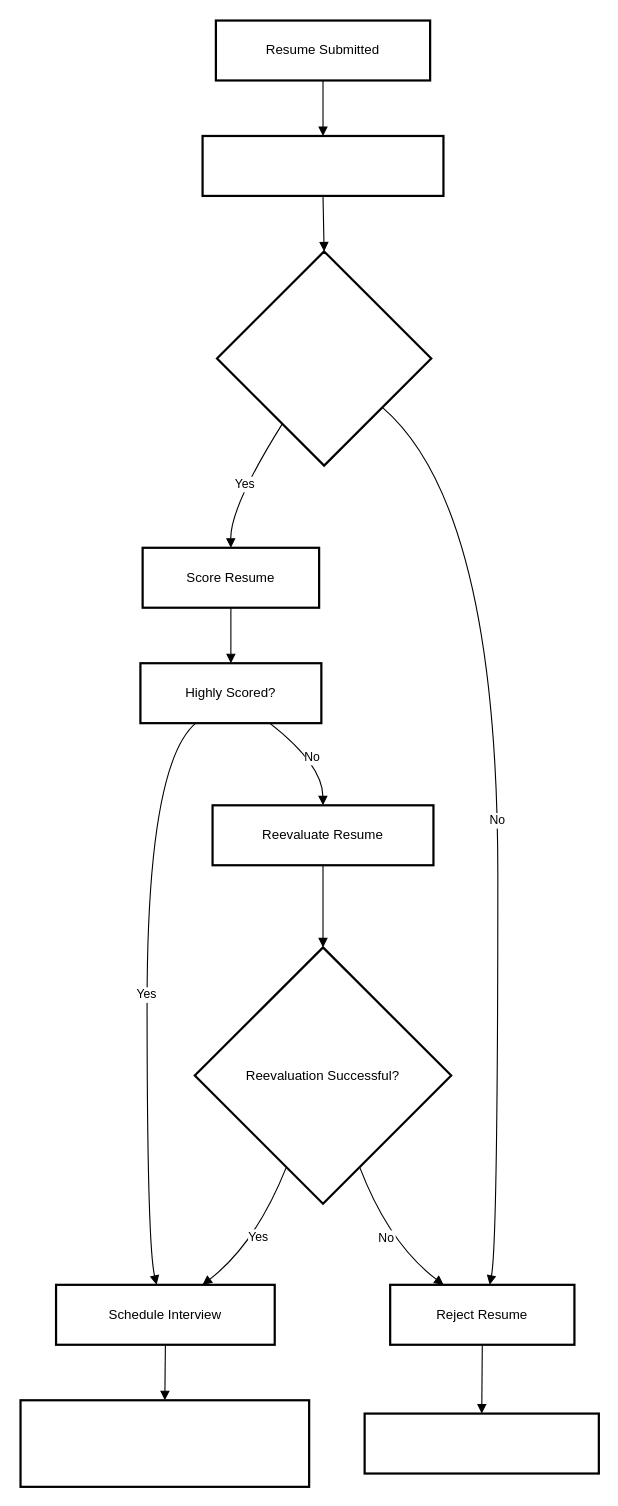
The diagram is 618 pixels wide and 1506 high, and some of its shapes have lost their labels. Here are the shapes that lost their labels. From the top down, the centre of each, then its label:
At (x=322, y=165): "Resume Preprocessing".
At (x=323, y=358): "Keywords Matched?".
At (x=164, y=1443): "Send Confirmation to Candidate".
At (x=481, y=1443): "Send Rejection Email".
